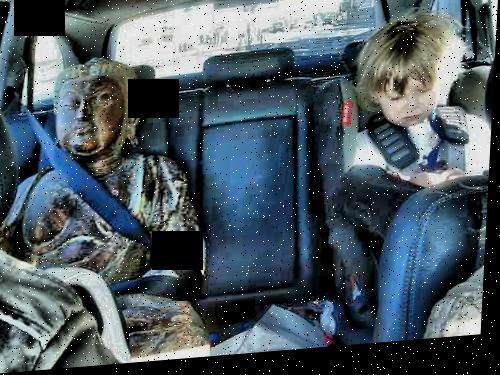seatbelt: (9, 86, 217, 309), (422, 111, 482, 188)
